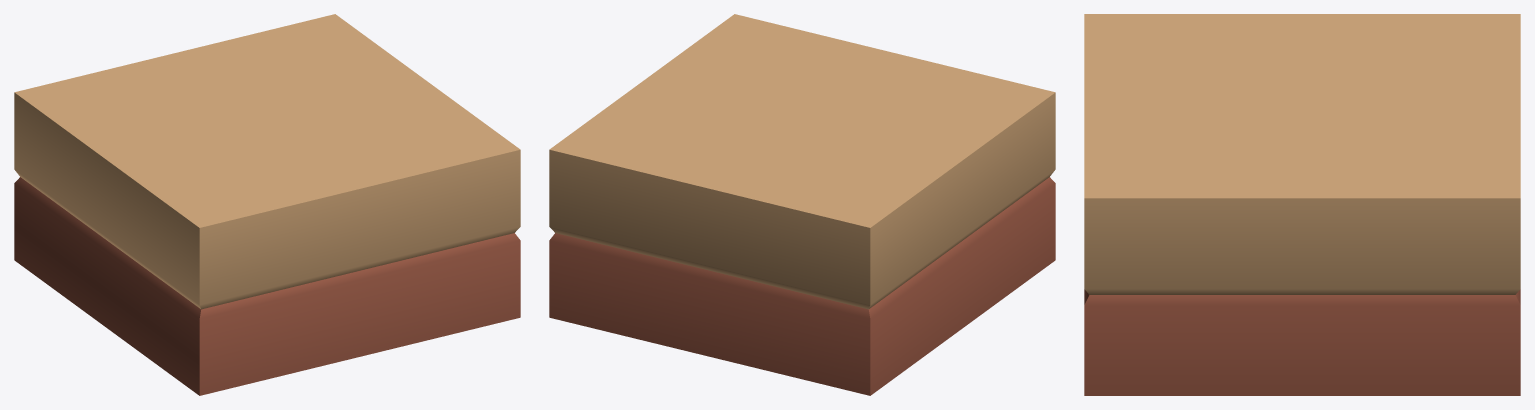
Rendered from square_sand_detail.glb.
The picture shows the model from 3 angles, left to right: view 1: azimuth 30°, elevation 25°; view 2: azimuth 150°, elevation 25°; view 3: azimuth 270°, elevation 25°; orthographic projection. The views are drawn at different scales.
Visible parts, largest first — view 1: square_sand_detail; view 2: square_sand_detail; view 3: square_sand_detail.
Part boxes in pixels (x1,y1,x2,y2): square_sand_detail: (14, 14, 520, 395); square_sand_detail: (549, 14, 1055, 395); square_sand_detail: (1084, 14, 1520, 395).
Size of the model in its own units: 2 by 1 by 2.
